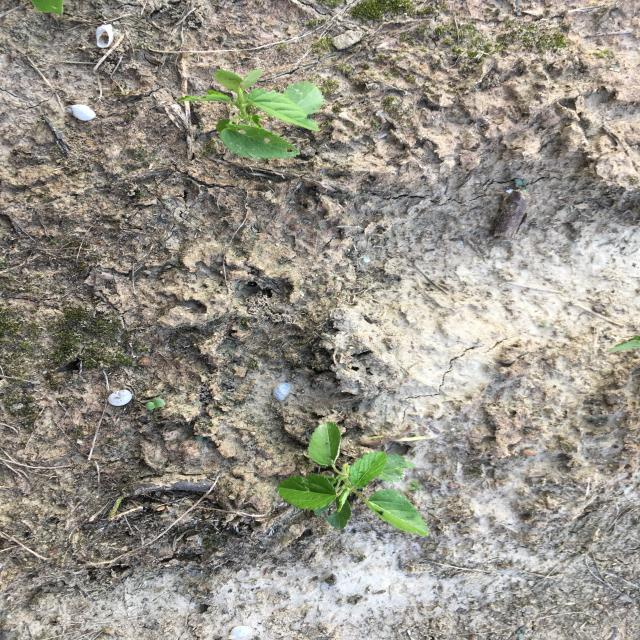PricklySida: (274, 419, 432, 538), (172, 67, 328, 162)
